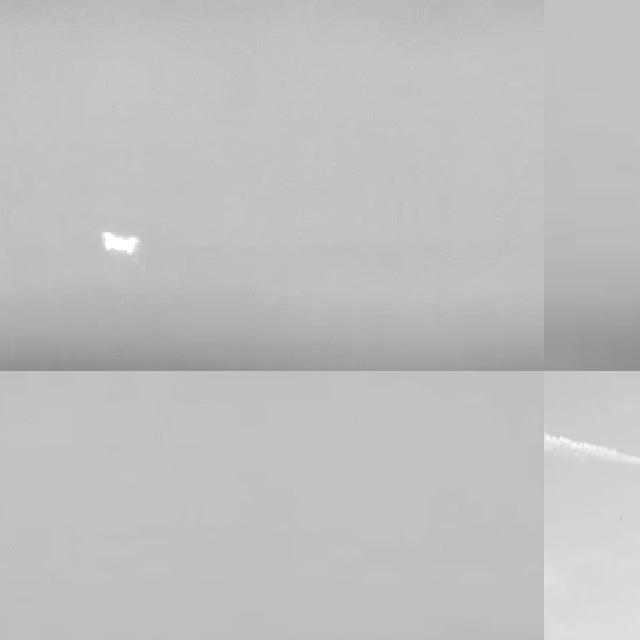0: (452, 371, 478, 383)
1: (89, 228, 149, 262)
drone: (613, 504, 627, 528)
